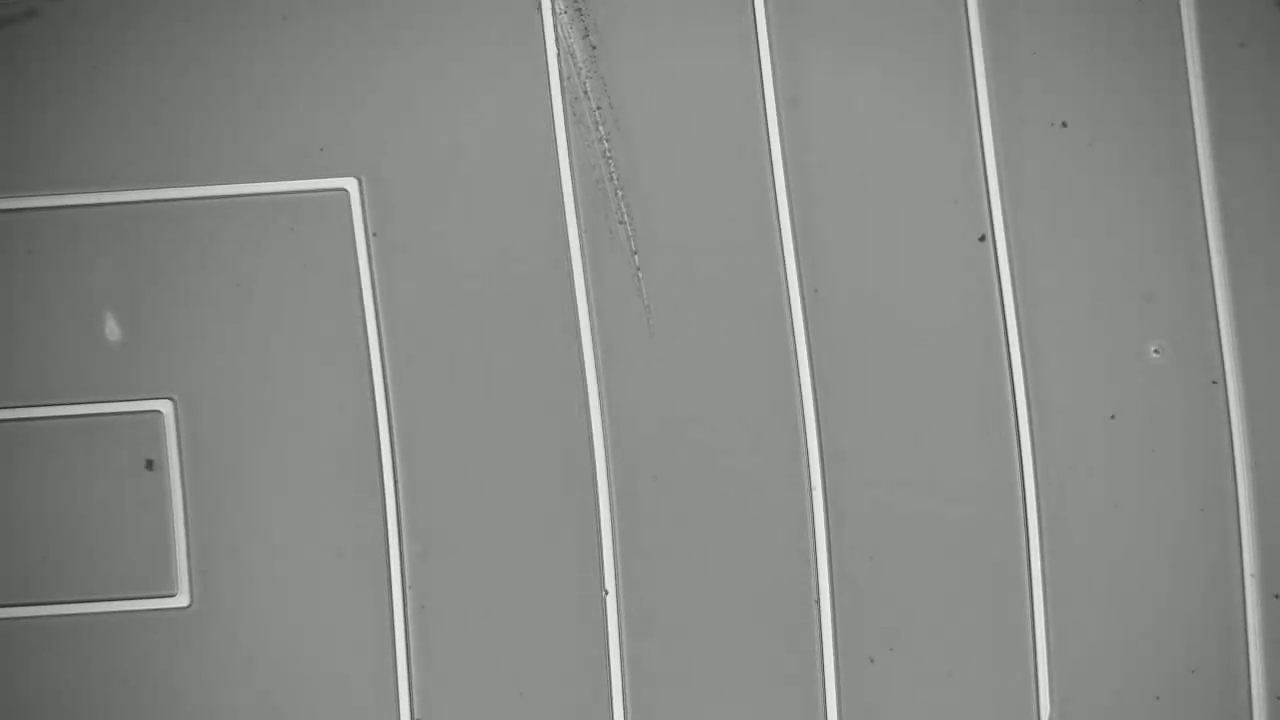scratch: (550, 2, 660, 325)
